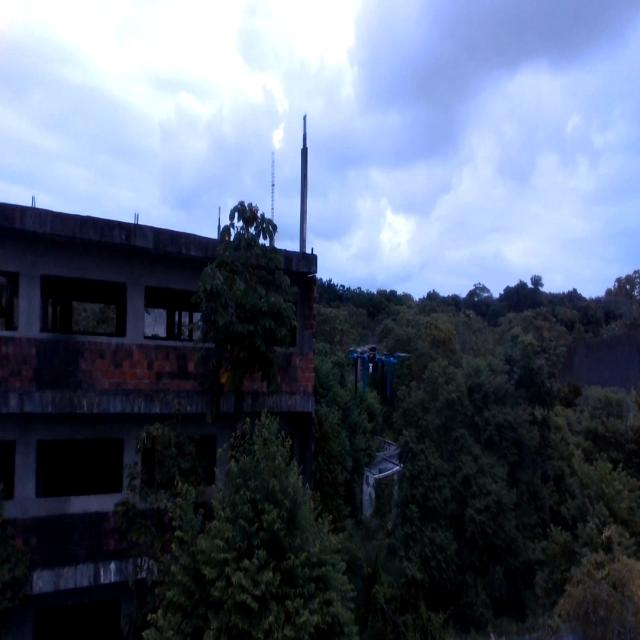-uav-: (342, 336, 416, 402)
